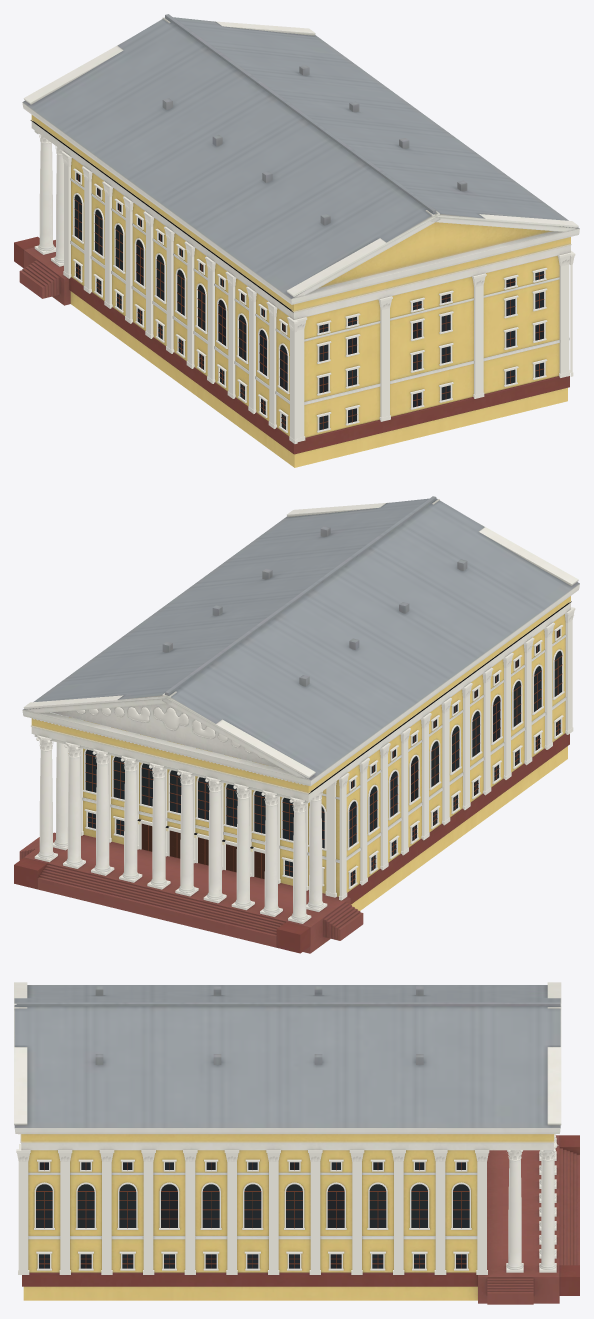
The model's file is drama_theatre.glb.
3 renders of one model, top to bottom at view 1: azimuth 30°, elevation 25°; view 2: azimuth 150°, elevation 25°; view 3: azimuth 270°, elevation 25°, orthographic.
Visible parts, largest first — view 1: drama_theatre; view 2: drama_theatre; view 3: drama_theatre.
Part boxes in pixels (bbox=[...]): drama_theatre: bbox=[14, 14, 579, 467]; drama_theatre: bbox=[14, 496, 579, 953]; drama_theatre: bbox=[14, 982, 579, 1304].
Size of what is drawn, in the model's own units: 44.6 by 30.07 by 67.13.
Materials: 4 (4 with a texture image).
